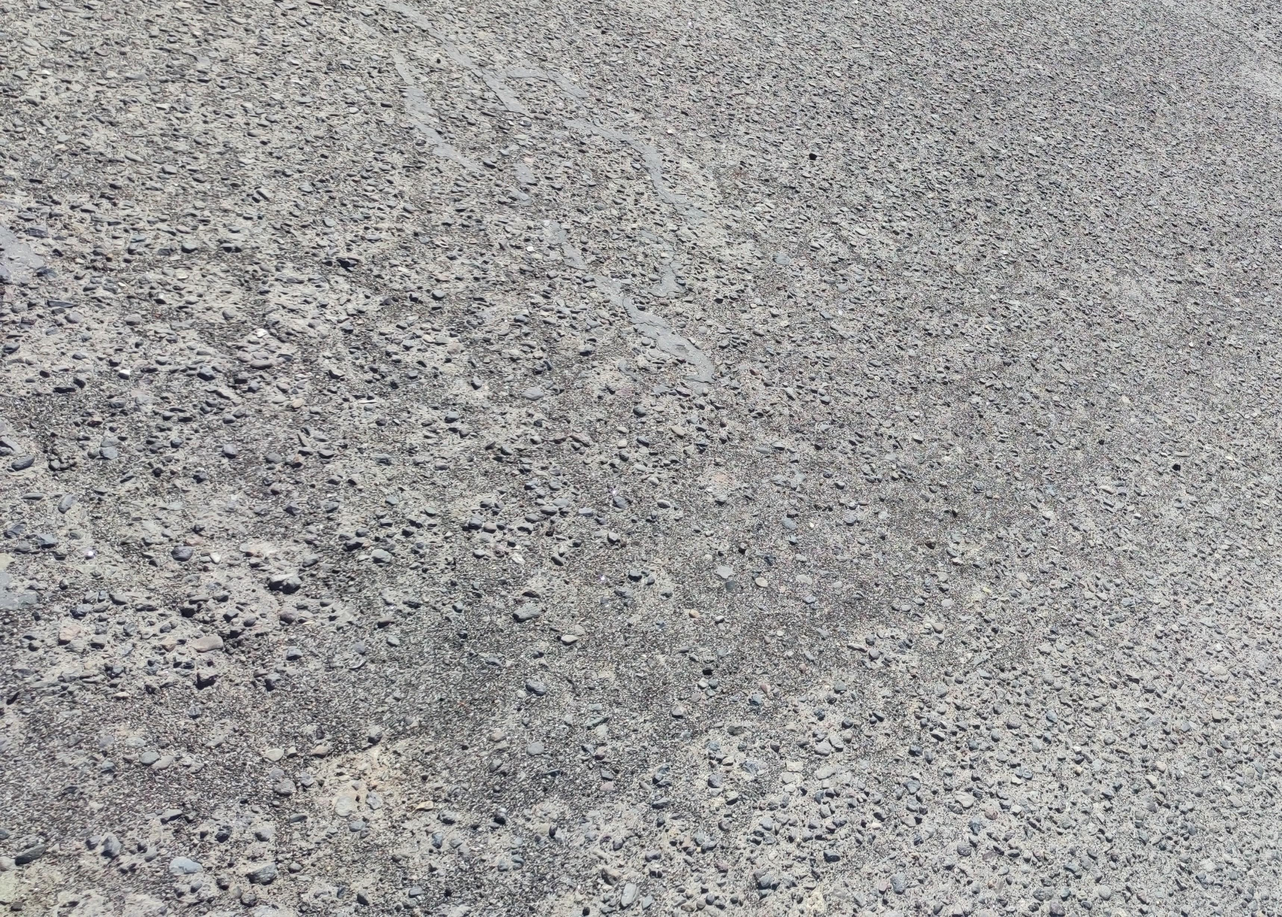PIEL DE COCODRILO: (0, 186, 1145, 861)
